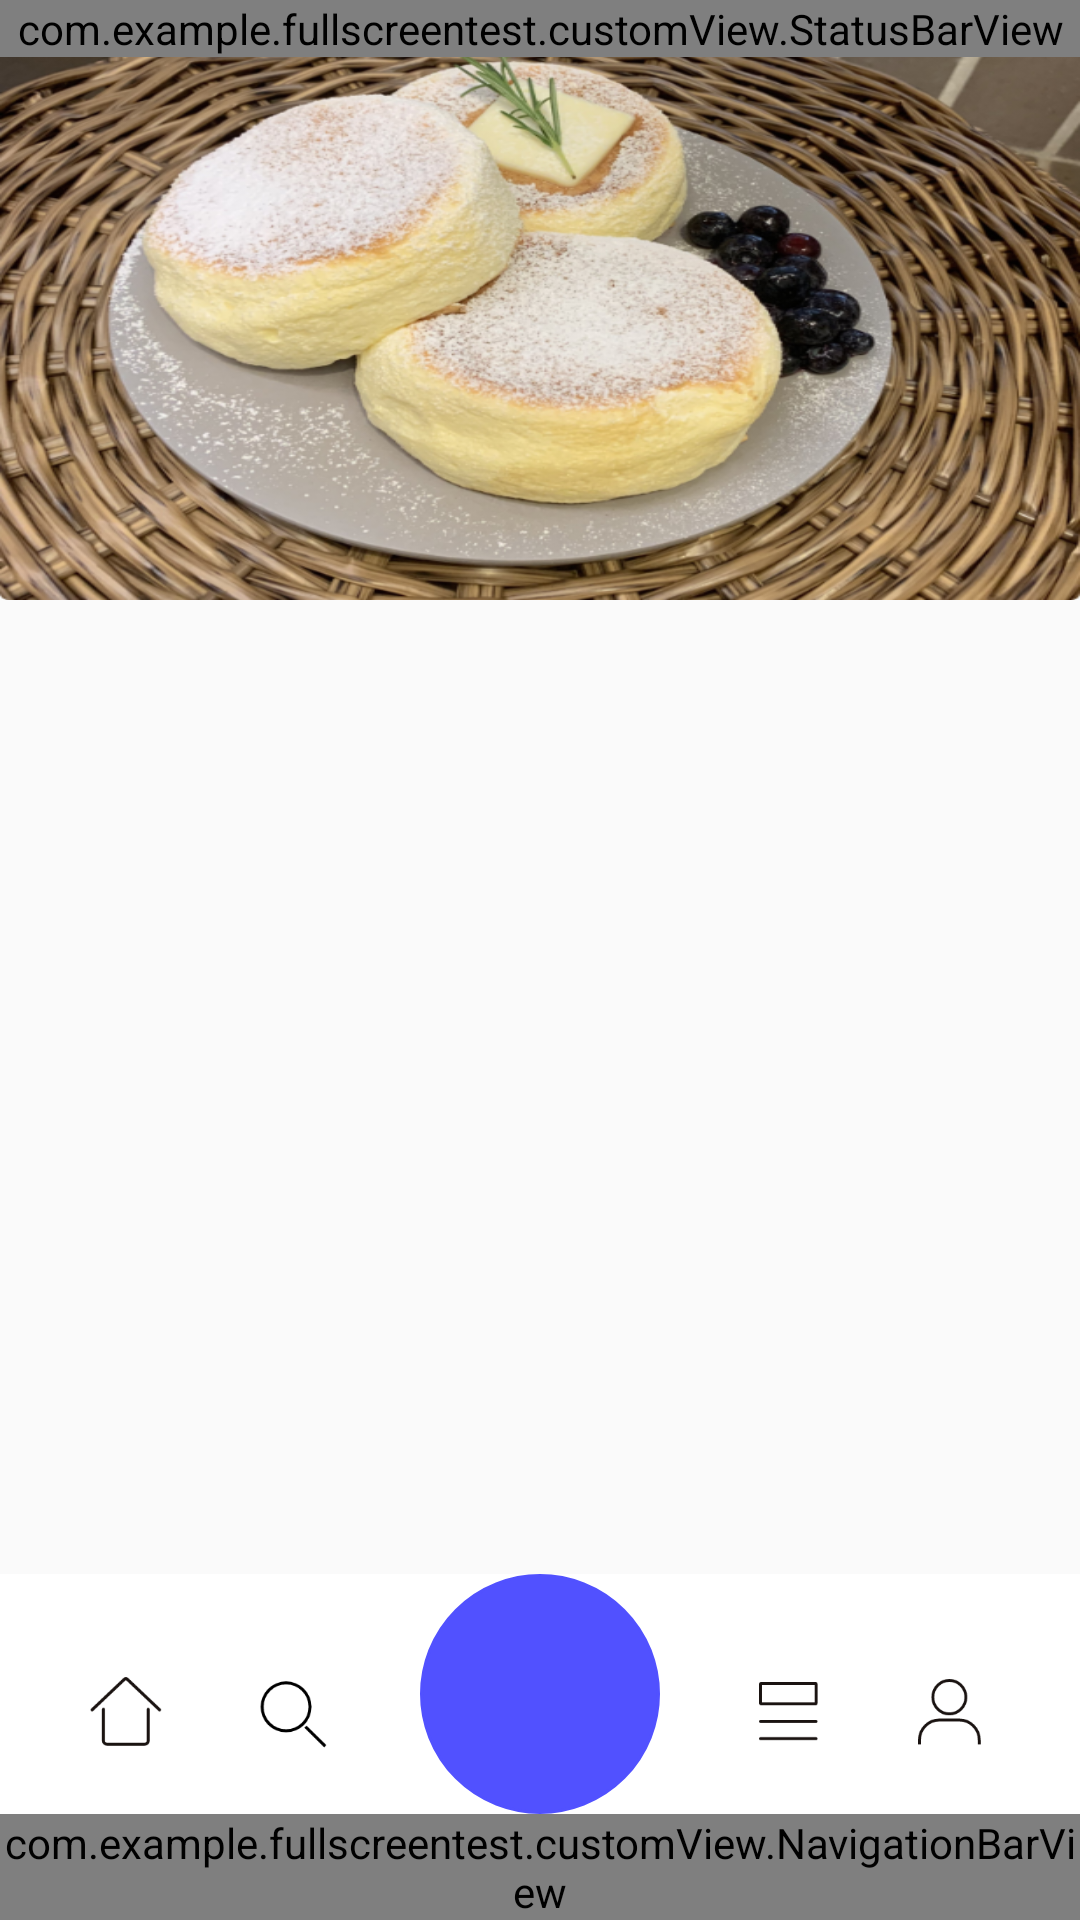

Screen size 1080 x 1920. Icon name, then its box in pixels as (x1, y1, x2, y2):
home: (90, 1677, 162, 1746)
menu: (759, 1682, 818, 1741)
search: (260, 1681, 326, 1748)
